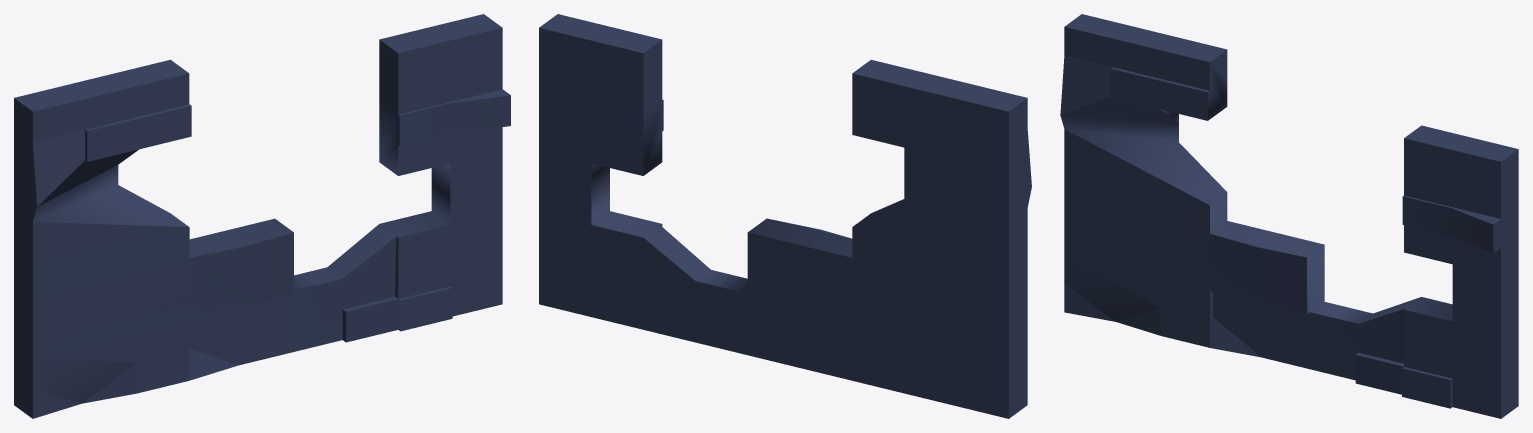
File: SM_BrokenWall.fbx
3 views of the same model, side by side, from view 1: azimuth 30°, elevation 25°; view 2: azimuth 150°, elevation 25°; view 3: azimuth 330°, elevation 25° (orthographic). The views are drawn at different scales.
Visible parts, largest first — view 1: Wall2; view 2: Wall2; view 3: Wall2.
Boxes of the visible parts, x1,y1,x2,y2 form: Wall2: (14,14,510,418); Wall2: (539,14,1031,418); Wall2: (1060,14,1518,418).
Size of the model in its own units: 14.4 by 9 by 1.44.
